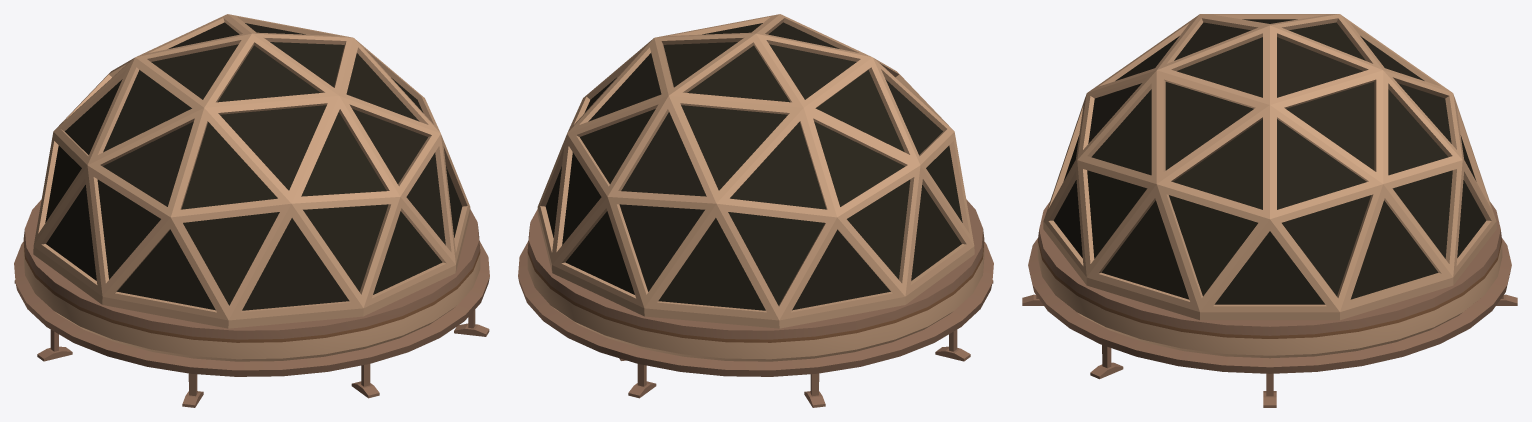
File: quaternius-ultimate-space-geodesicdome.glb
3 renders of one model, left to right at view 1: azimuth 30°, elevation 25°; view 2: azimuth 150°, elevation 25°; view 3: azimuth 270°, elevation 25°, orthographic.
Parts seen in each view (by area): view 1: GeodesicDome; view 2: GeodesicDome; view 3: GeodesicDome.
Boxes of the visible parts, x1=… form: GeodesicDome: x1=14, y1=14, x2=489, y2=407; GeodesicDome: x1=518, y1=14, x2=993, y2=407; GeodesicDome: x1=1022, y1=14, x2=1517, y2=407.
Size of the model in its own units: 8.53 by 5.28 by 8.53.
1 material, 1 textured.
